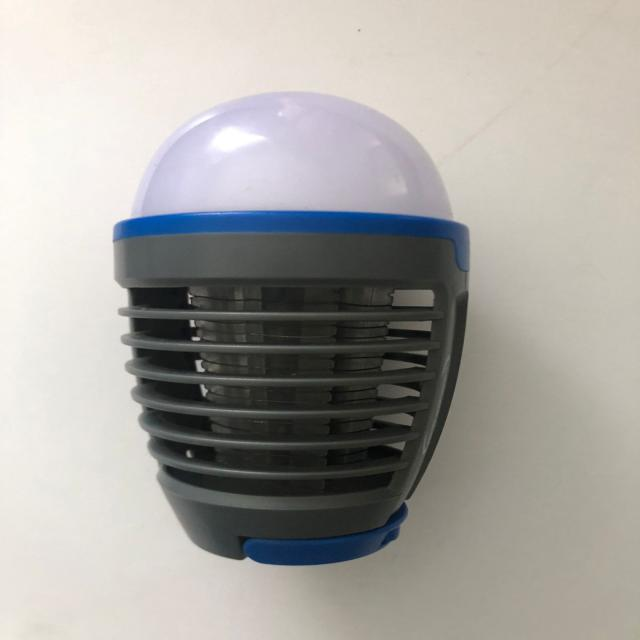Mosquito Killer: (111, 89, 472, 566)
